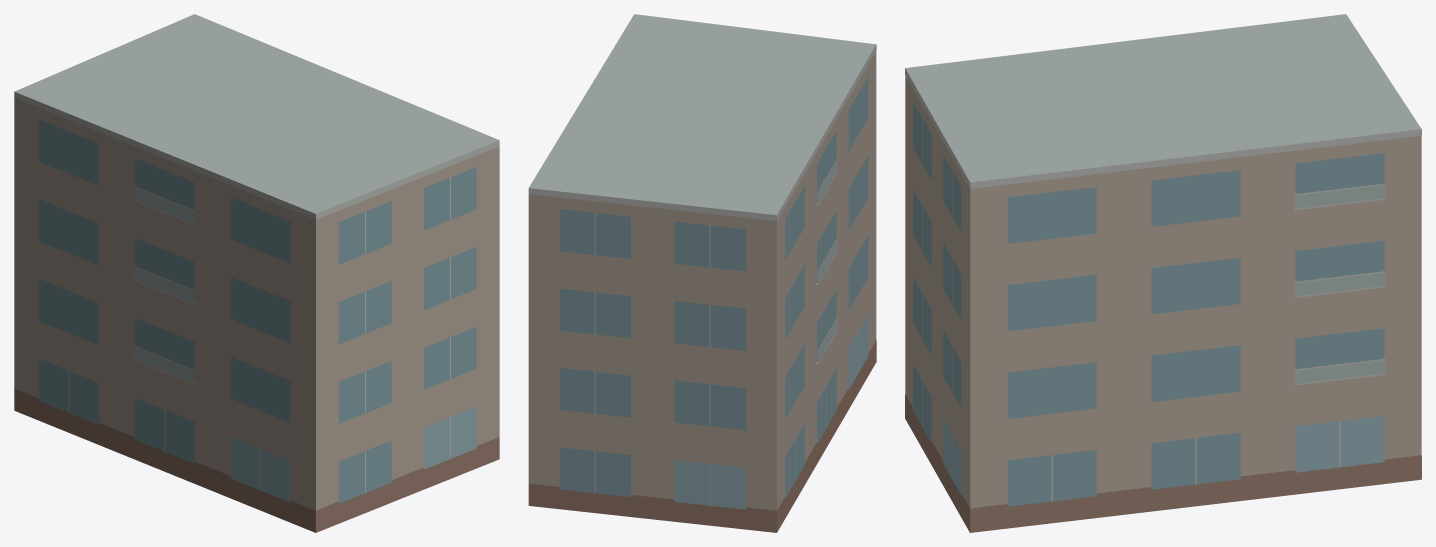
File: survey-upis-32902643.glb
3 views of the same model, side by side, from view 1: azimuth 30°, elevation 25°; view 2: azimuth 150°, elevation 25°; view 3: azimuth 270°, elevation 25° (orthographic). The views are drawn at different scales.
Parts seen in each view (by area): view 1: survey-upis-32902643.tmp; view 2: survey-upis-32902643.tmp; view 3: survey-upis-32902643.tmp.
Part boxes in pixels (<box>): survey-upis-32902643.tmp: <box>14,14,499,532</box>; survey-upis-32902643.tmp: <box>528,14,876,532</box>; survey-upis-32902643.tmp: <box>905,14,1421,532</box>.
Size of the model in its own units: 13.42 by 13 by 17.38.
